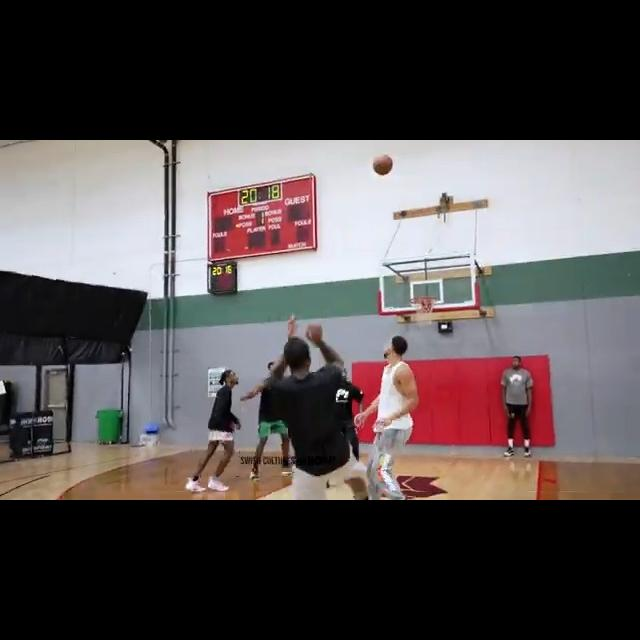basketball: (372, 155, 395, 177)
hoop: (410, 296, 439, 326)
person: (283, 314, 357, 500), (364, 336, 415, 500), (184, 369, 240, 492), (246, 356, 296, 478), (497, 356, 539, 458), (335, 362, 368, 471)
